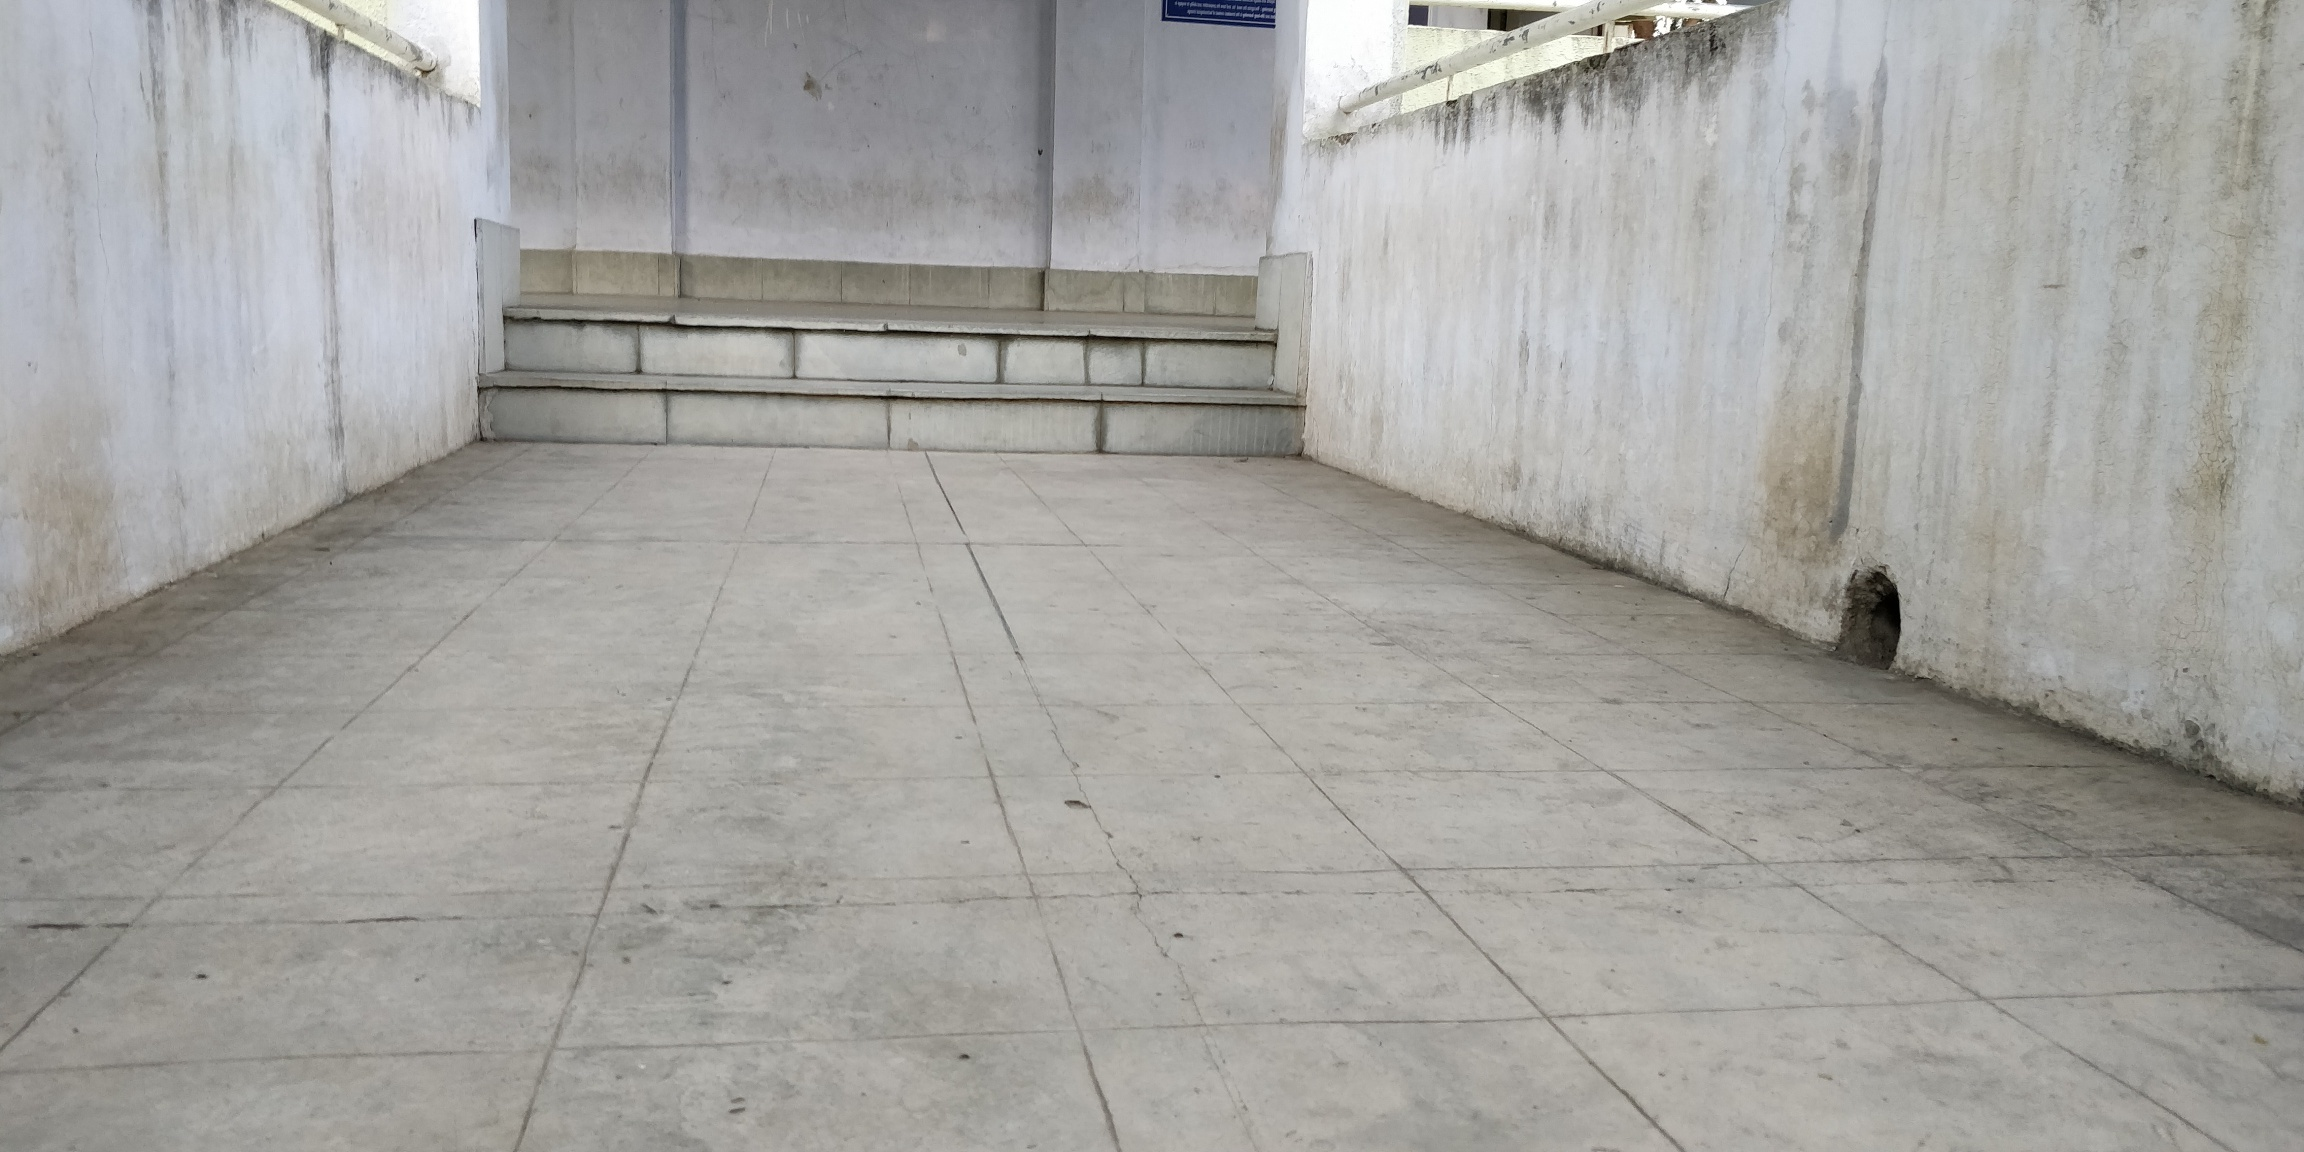stairs_up: (472, 298, 1303, 461)
